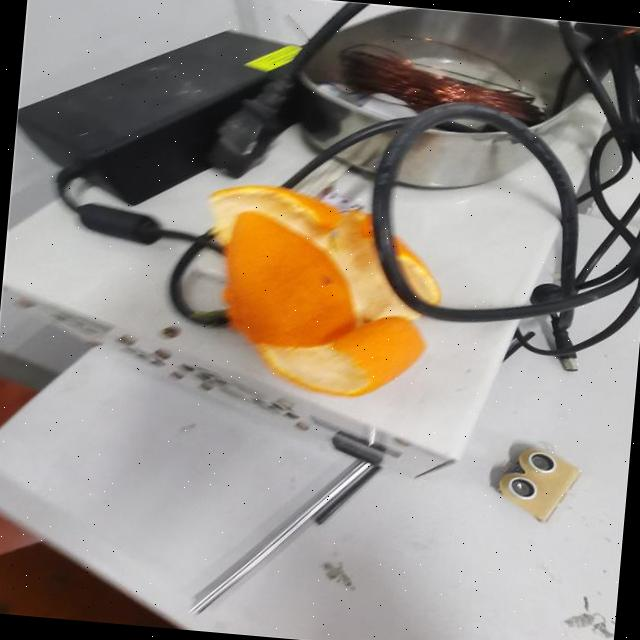orange-peel: (190, 178, 449, 405)
